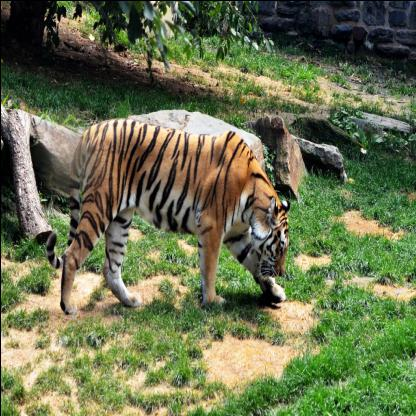tiger: (249, 187, 303, 281)
